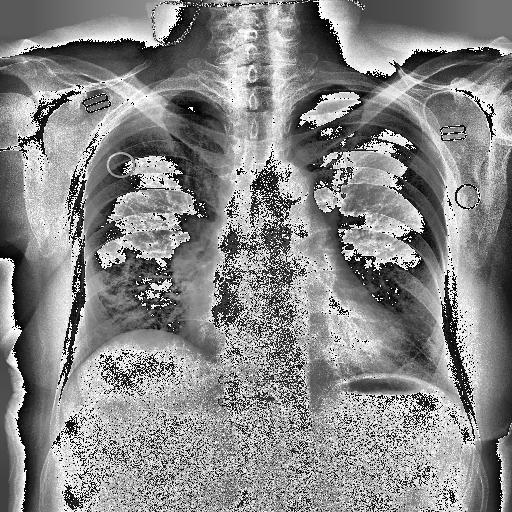0- Aortic enlargement: (264, 162, 316, 218), (270, 164, 314, 199)
3- Cardiomegaly: (186, 286, 410, 370), (184, 301, 410, 374), (184, 310, 413, 374)
6- Infiltration: (105, 255, 162, 331)
9- Other lesion: (198, 326, 206, 343)
